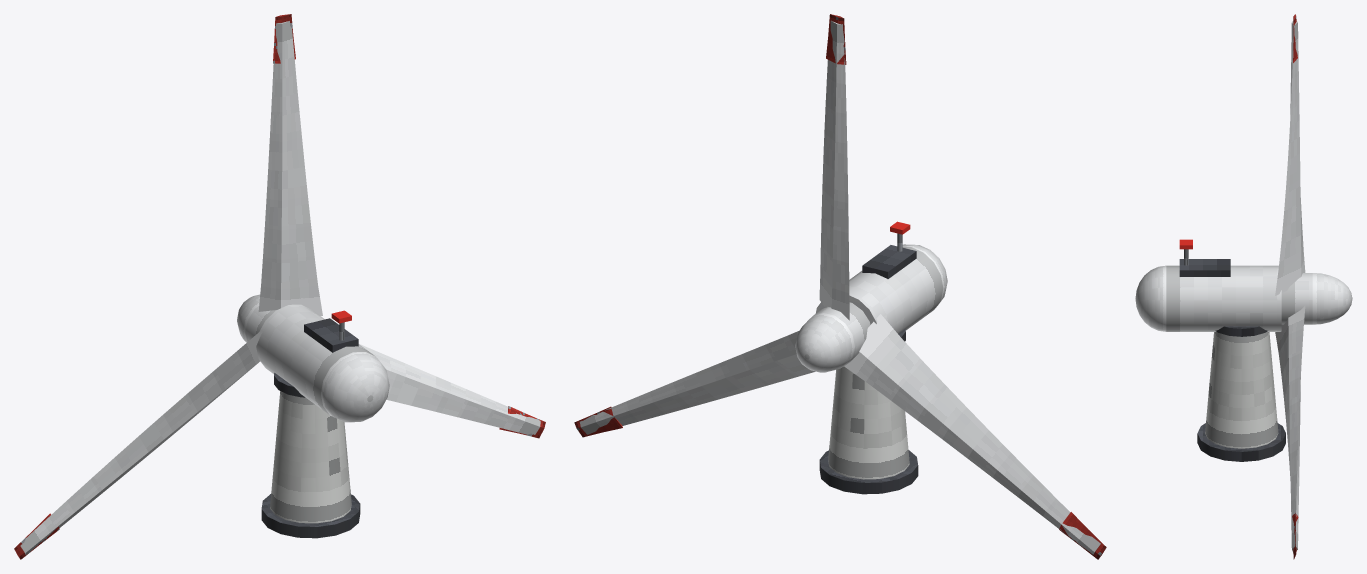
Rendered from windmill.obj.
The picture shows the model from 3 angles, left to right: view 1: azimuth 30°, elevation 25°; view 2: azimuth 150°, elevation 25°; view 3: azimuth 270°, elevation 25°; orthographic projection. The views are drawn at different scales.
Bounding box in the file's own units: 1 × 0.8698 × 0.3962.
